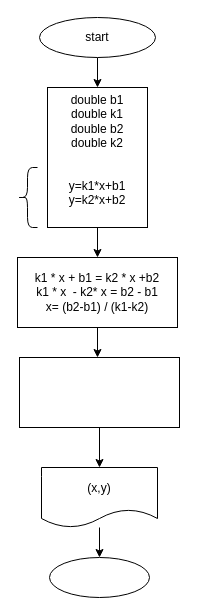
Image size: 197x615. Some labels were removed from this diagram. Here are the shapes that lost their labels. From the top down, the centre of each, then its label:
At point (99, 392): "x= (b2-b1) / (k1-k2) y = k2 * x + b2".
At point (99, 577): "end".
